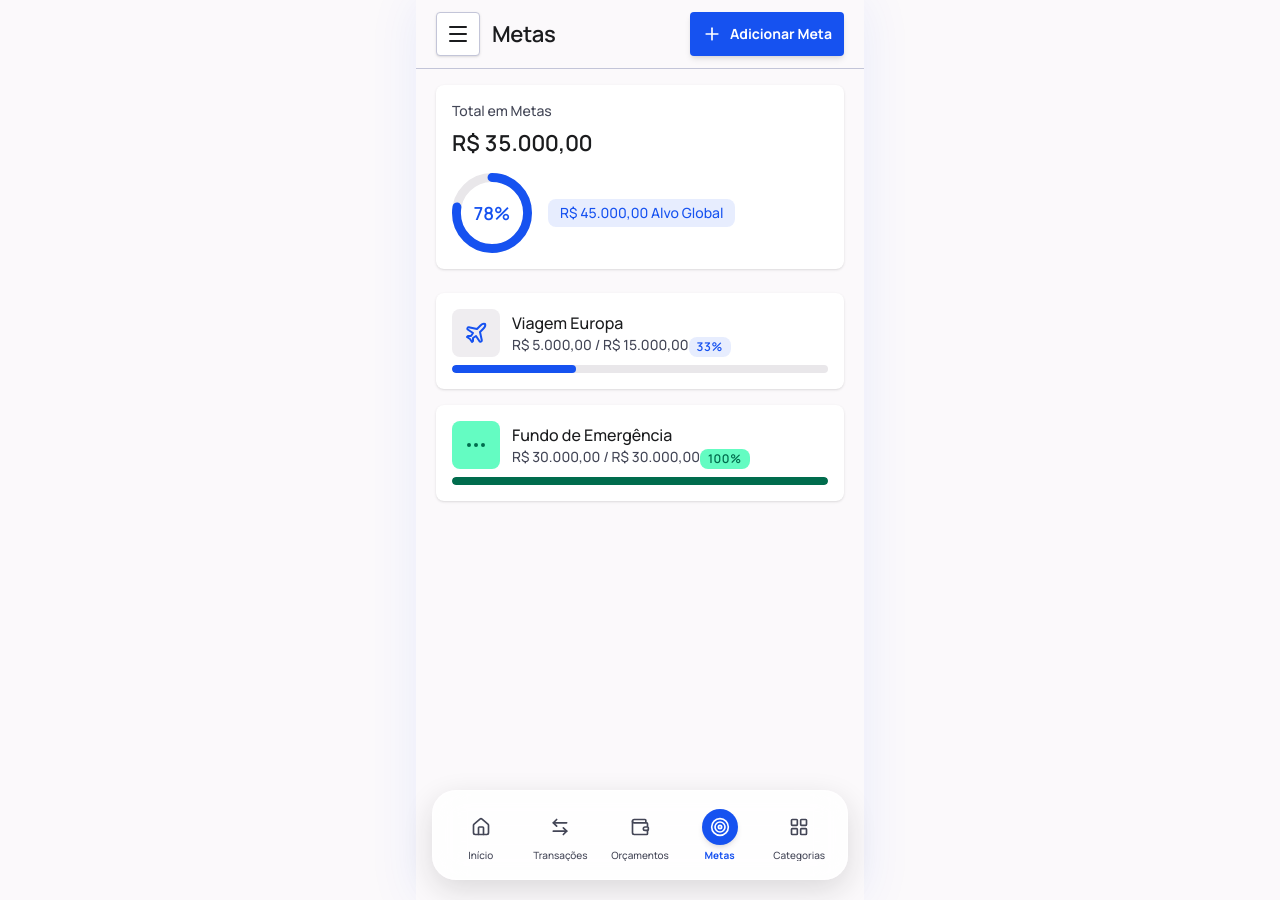
Test case: MetasClient › abre modal ao clicar em Adicionar Meta
The image size is (1280, 900).
Click the button "Adicionar Meta".
click(767, 34)  # box [690, 12, 844, 56]
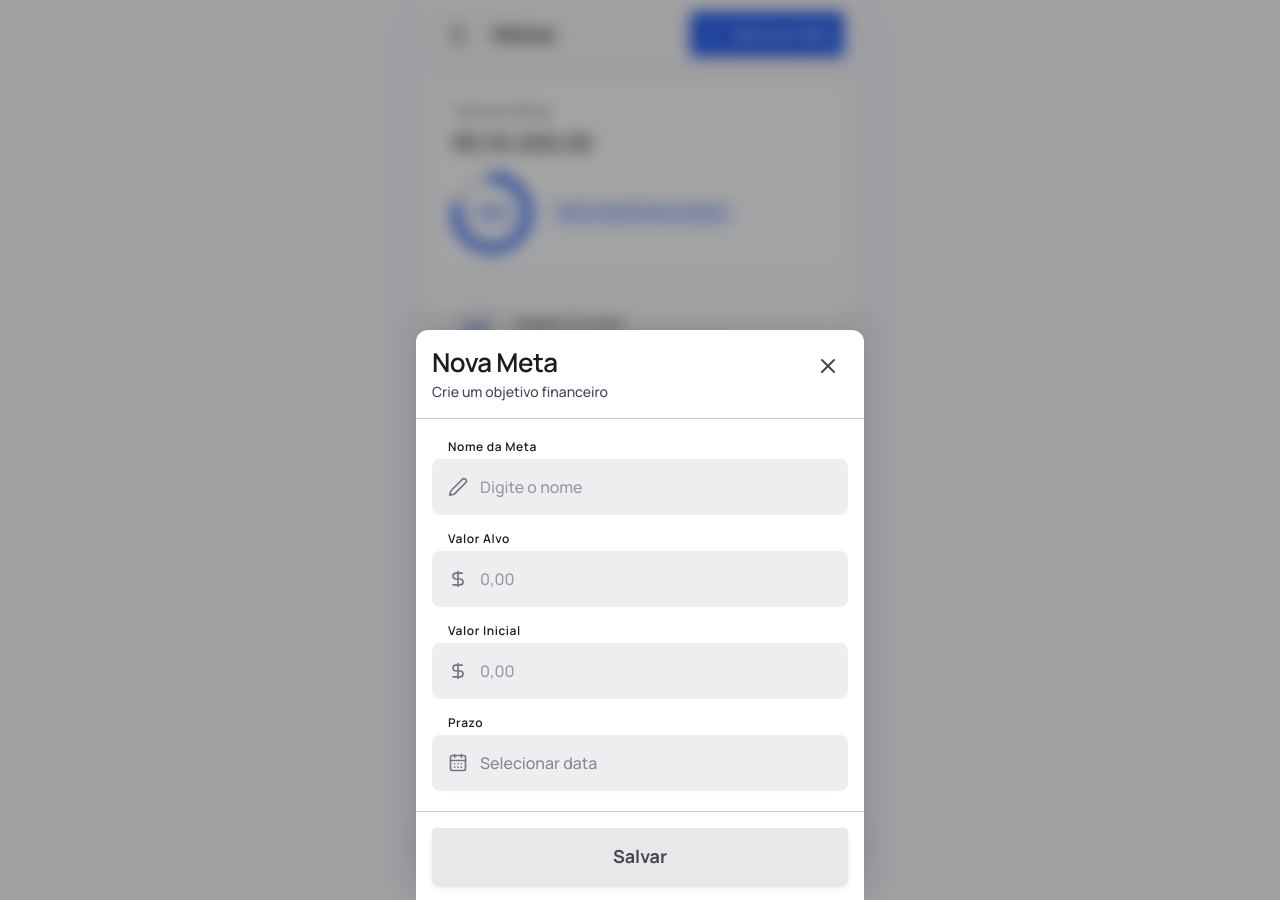
Check: the heading "Nova Meta" is shown, box [432, 344, 558, 380]
